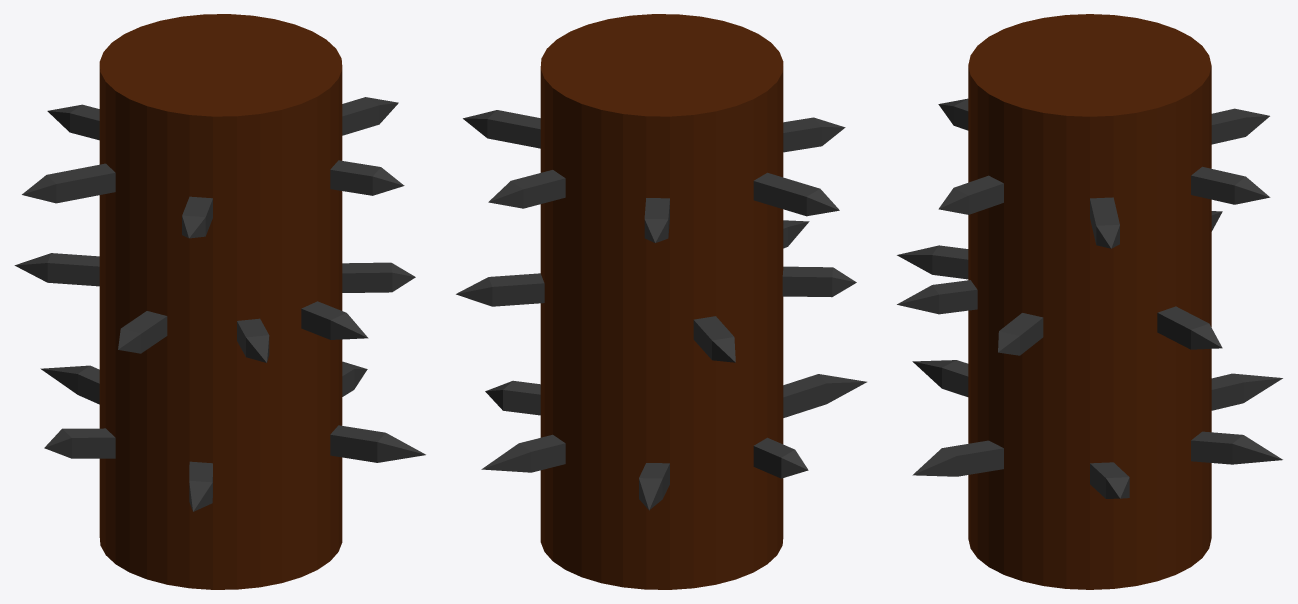
The model's file is spikescylinder.fbx.
3 renders of one model, left to right at view 1: azimuth 30°, elevation 25°; view 2: azimuth 150°, elevation 25°; view 3: azimuth 270°, elevation 25°, orthographic.
Visible parts, largest first — view 1: SpikesCylinder; view 2: SpikesCylinder; view 3: SpikesCylinder.
Boxes of the visible parts, x1,y1,x2,y2 form: SpikesCylinder: (14, 14, 425, 589); SpikesCylinder: (456, 14, 866, 589); SpikesCylinder: (897, 14, 1282, 589).
Size of the model in its own units: 167 by 200 by 148.
